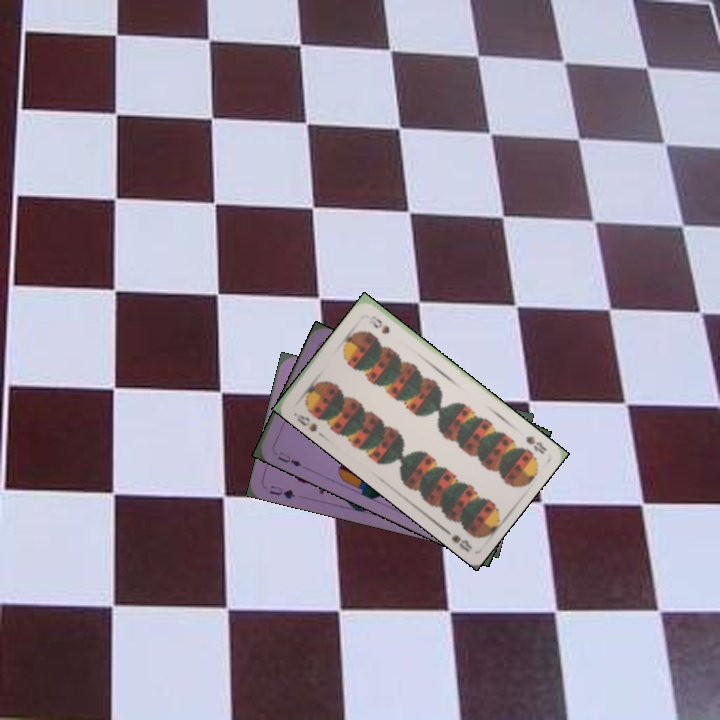EU: (273, 447, 304, 470)
GU: (265, 481, 298, 502)
S8: (290, 409, 320, 434), (522, 431, 549, 457)
